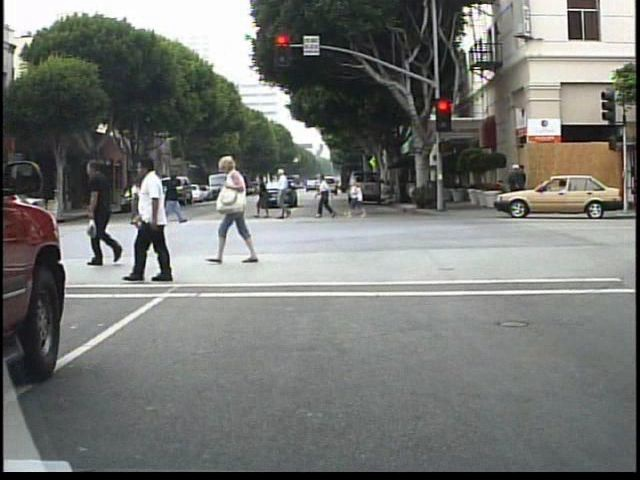person: (126, 153, 193, 288), (213, 156, 272, 269), (85, 157, 138, 276), (168, 173, 193, 230), (275, 166, 299, 223), (316, 171, 339, 225), (253, 172, 275, 223), (503, 159, 522, 212), (127, 175, 146, 225), (4, 187, 23, 236), (512, 161, 531, 208), (12, 196, 31, 237)
